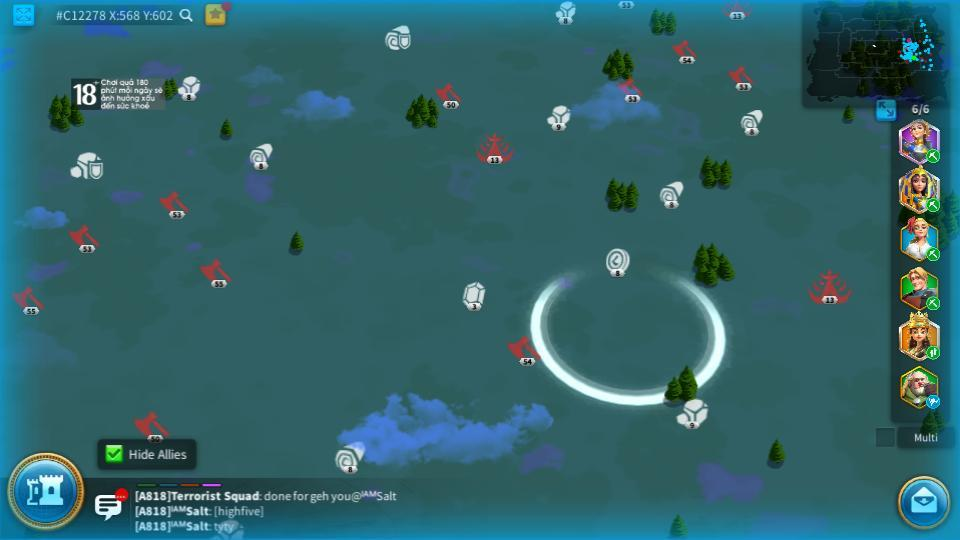gem-z-out: (461, 281, 486, 308)
march_farming: (926, 297, 941, 308), (926, 250, 940, 260)
march_idle: (925, 395, 942, 407)
march_marching: (925, 197, 941, 212), (925, 345, 941, 359), (924, 149, 939, 162)
